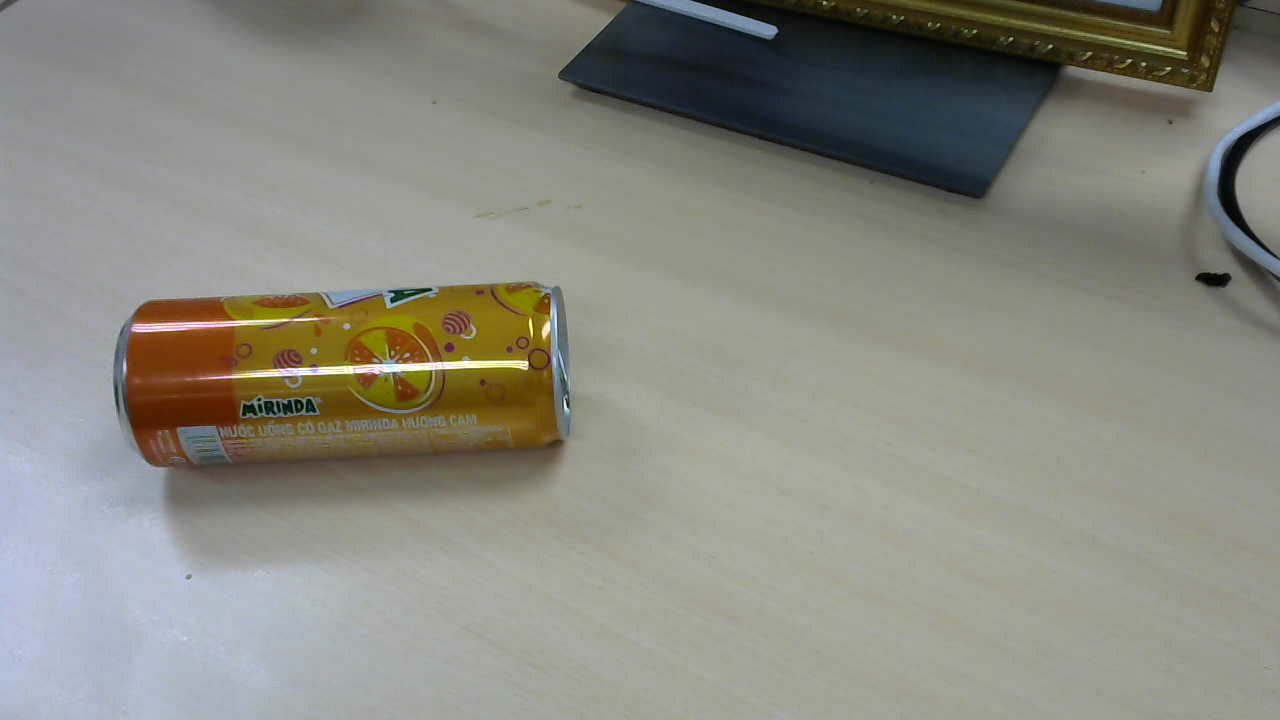Mirinda: (122, 283, 574, 474)
